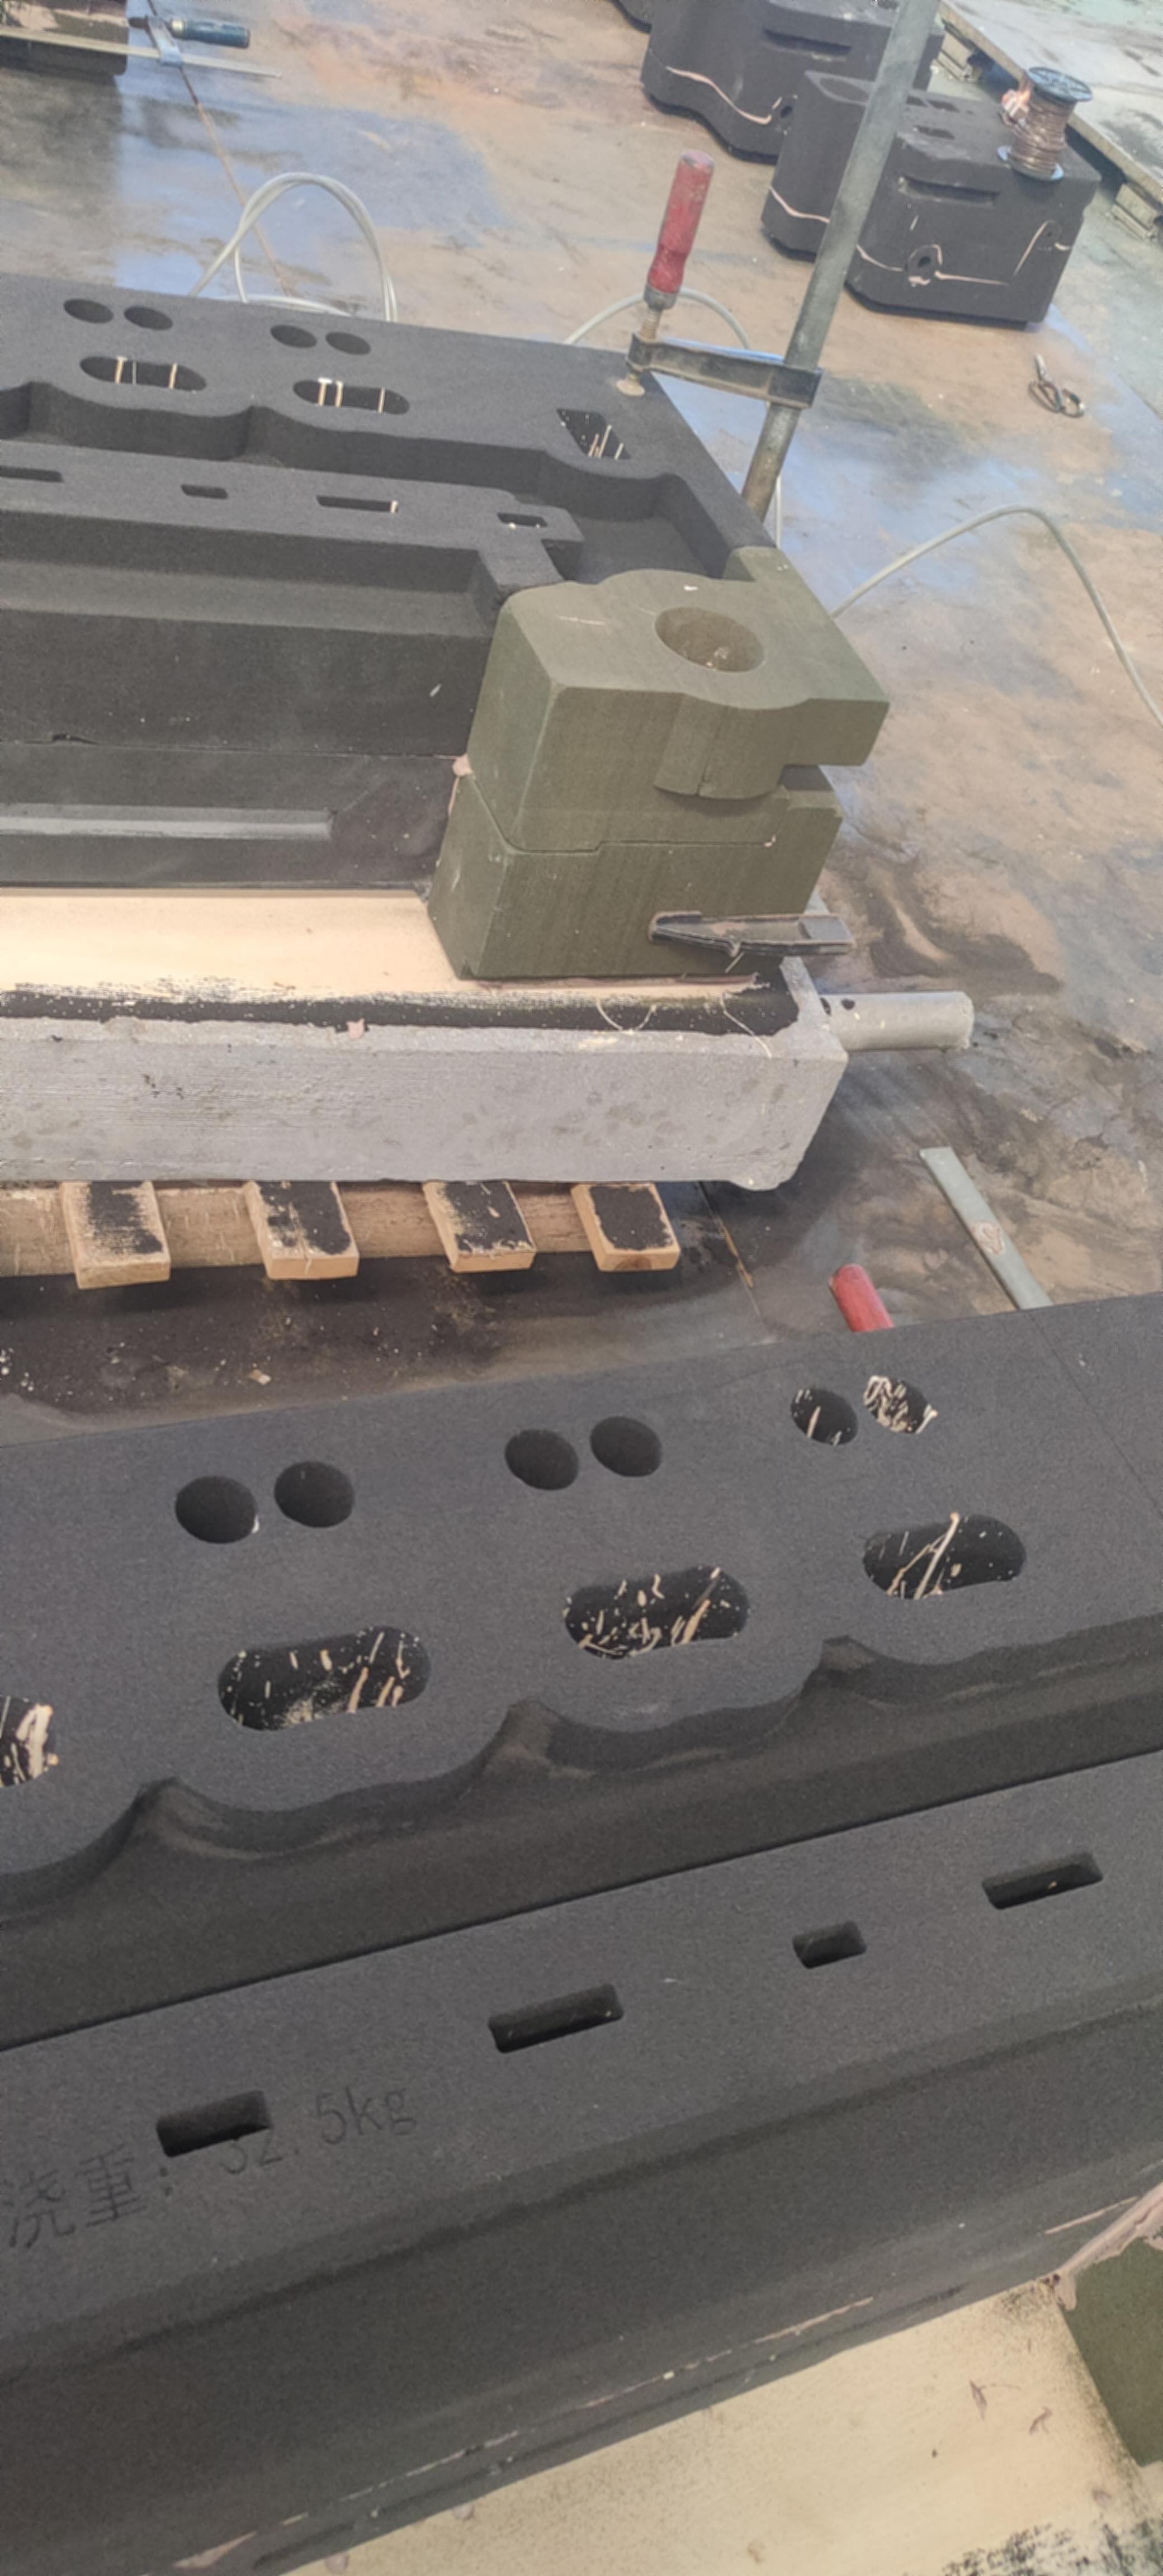pouring hole: (652, 605, 767, 677), (813, 71, 876, 113)
